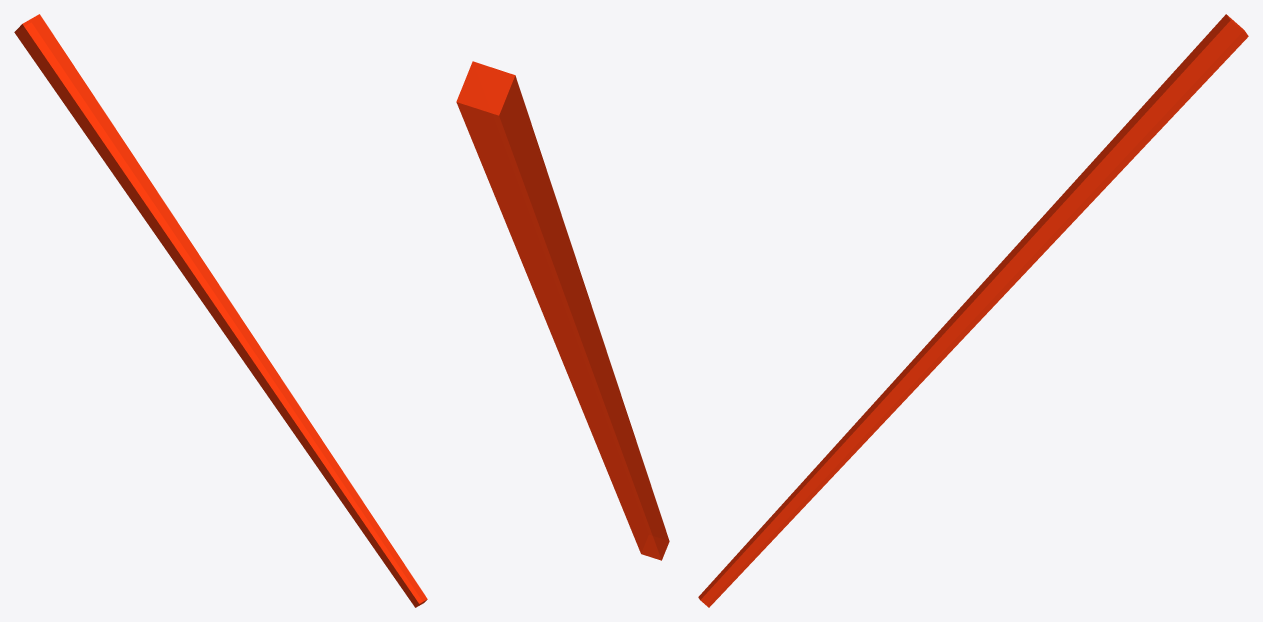
Rendered from Event_420094457_EBrechit_5.fbx.
3 renders of one model, left to right at view 1: azimuth 30°, elevation 25°; view 2: azimuth 150°, elevation 25°; view 3: azimuth 270°, elevation 25°, orthographic. The views are drawn at different scales.
Visible parts, largest first — view 1: Model; view 2: Model; view 3: Model.
Boxes of the visible parts, box(x1,y1,x2,y2) form: Model: box(14, 14, 427, 607); Model: box(456, 61, 669, 560); Model: box(698, 14, 1248, 607).
Bounding box in the file's own units: 0.9948 × 2.56 × 2.52.
